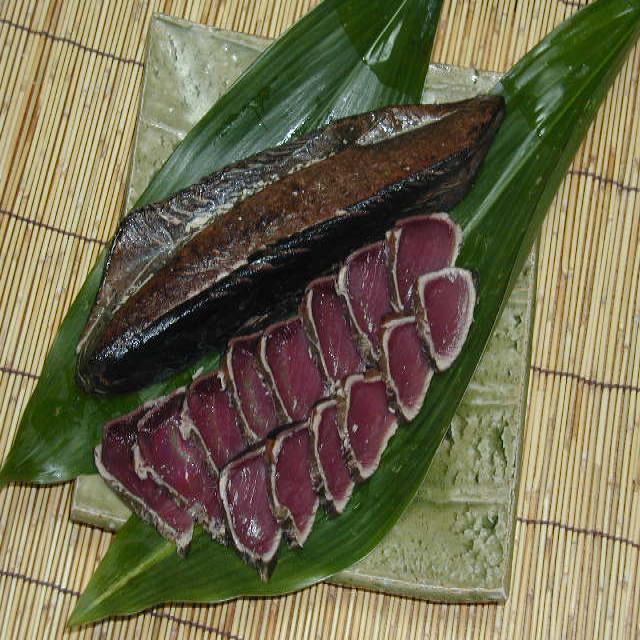熟制海鲜: (54, 72, 526, 619)
